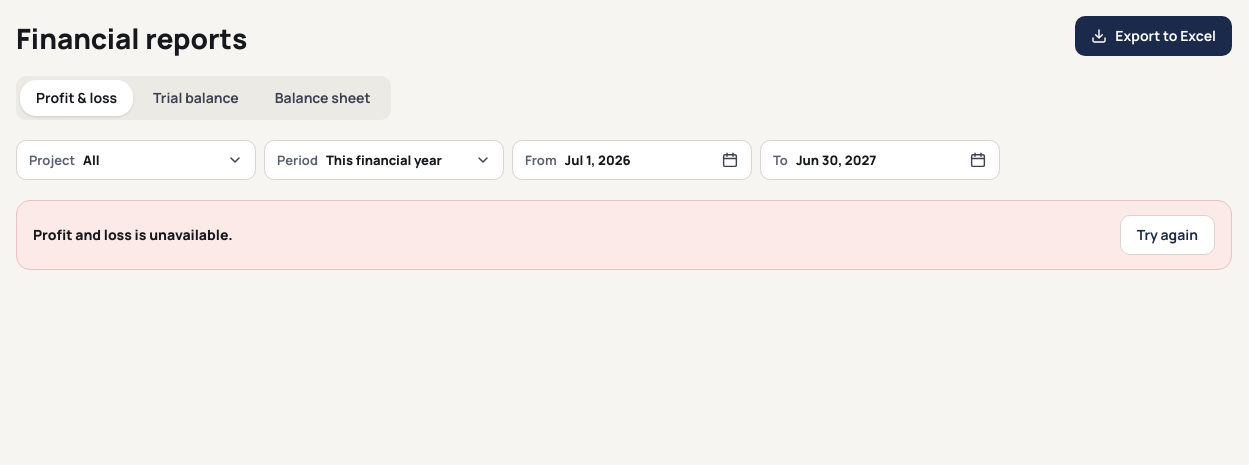
Test: Financial reports: Profit & loss › shows the server's message and a Try again button when the report fails
The image size is (1249, 465).
Expected: the text "Profit and loss is unavailable." is shown, x1=33 y1=225 x2=233 y2=244
Click the button "Try again" at (1167, 235), box x1=1120 y1=215 x2=1215 y2=255
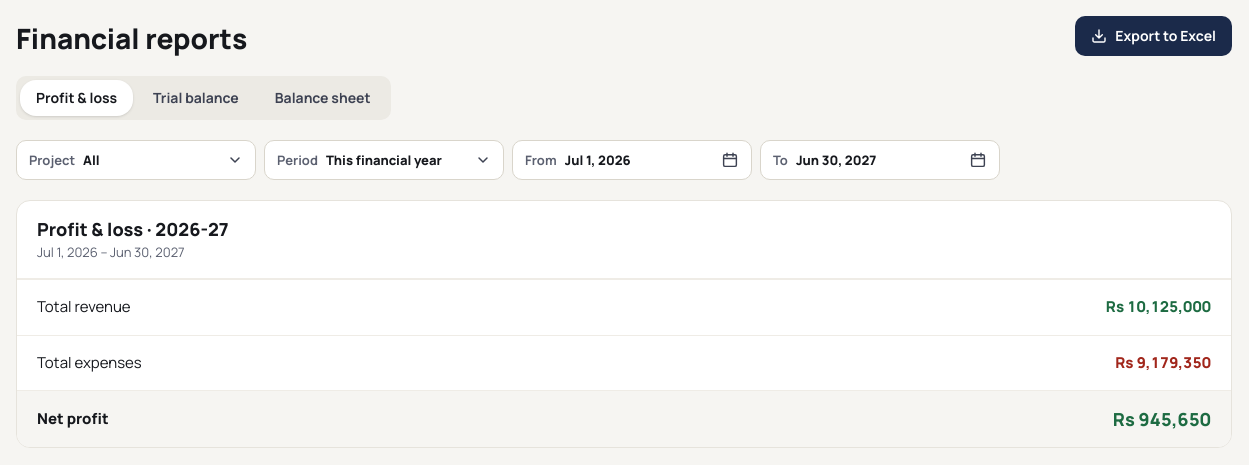
Result: the heading "Profit & loss · 2026-27" is shown at x1=37 y1=217 x2=229 y2=241
